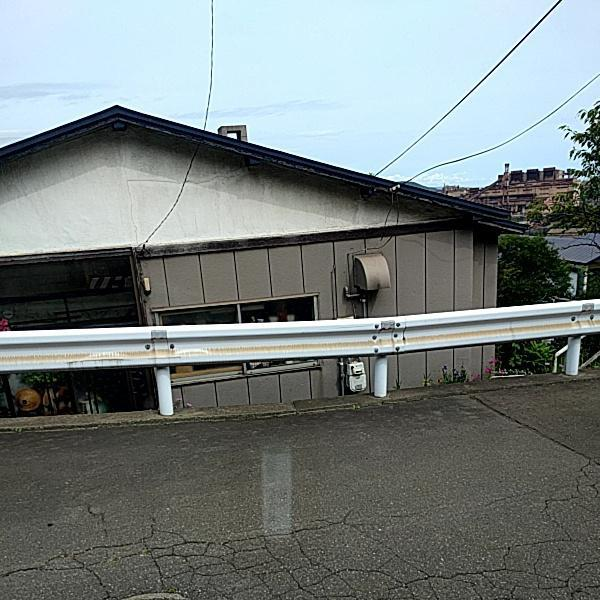D20: (3, 485, 594, 599)
